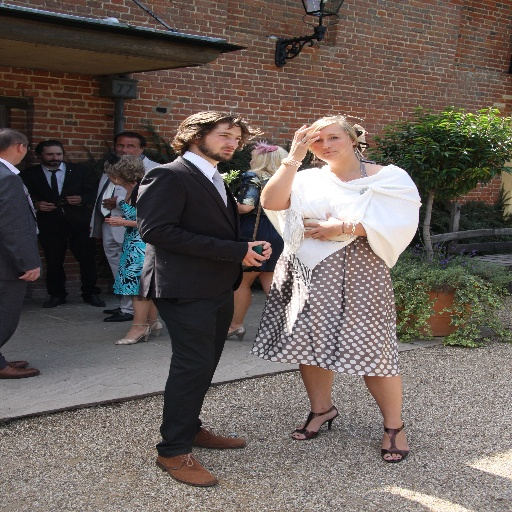hand: (297, 210, 343, 241), (287, 124, 319, 160), (242, 239, 269, 266), (251, 240, 272, 259), (16, 266, 40, 281), (34, 200, 59, 211), (104, 215, 124, 227), (103, 195, 116, 209), (65, 194, 83, 204)
